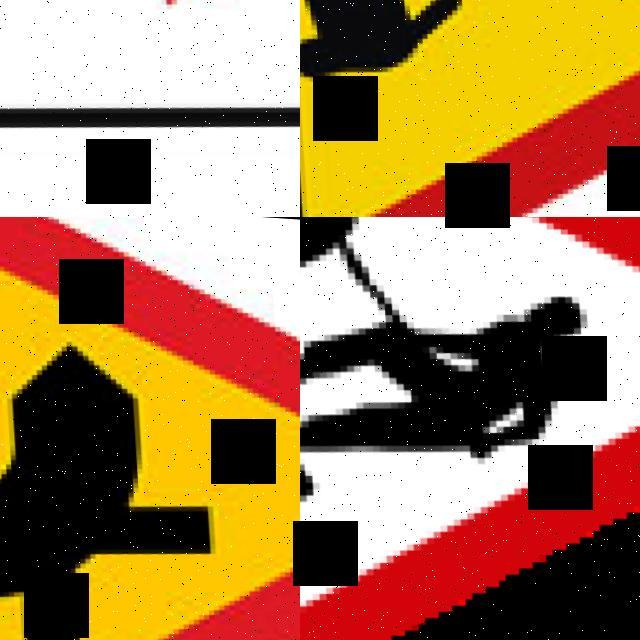107: (0, 0, 300, 164)
161: (300, 0, 640, 217)
166: (0, 217, 300, 640)
Dangerous shoulder: (300, 0, 640, 217)
Roadworks: (300, 217, 640, 640)
two way traffic: (300, 0, 640, 217)
